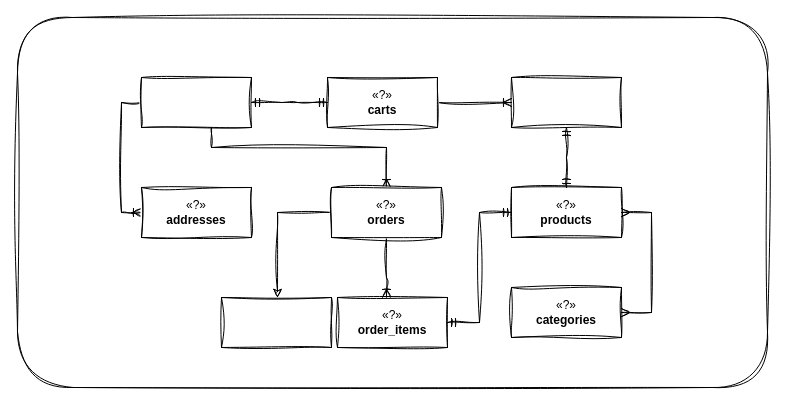
The diagram is 785 pixels wide and 405 high, and some of its shapes have lost their labels. The shapes that lost their labels are listed below. From the top down, each one's centre as x and y in pixels, then its label:
At (196,102): "«?» users".
At (566,102): "«?» cart _items".
At (276,322): "«?» payments".
